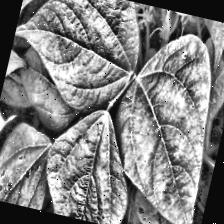ALS: (94, 25, 224, 224), (3, 0, 152, 115), (44, 111, 149, 224), (0, 111, 60, 210)
